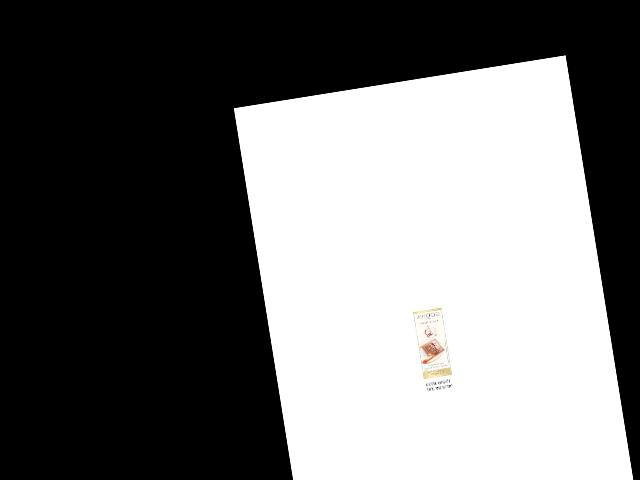chocolate: (410, 306, 451, 382)
